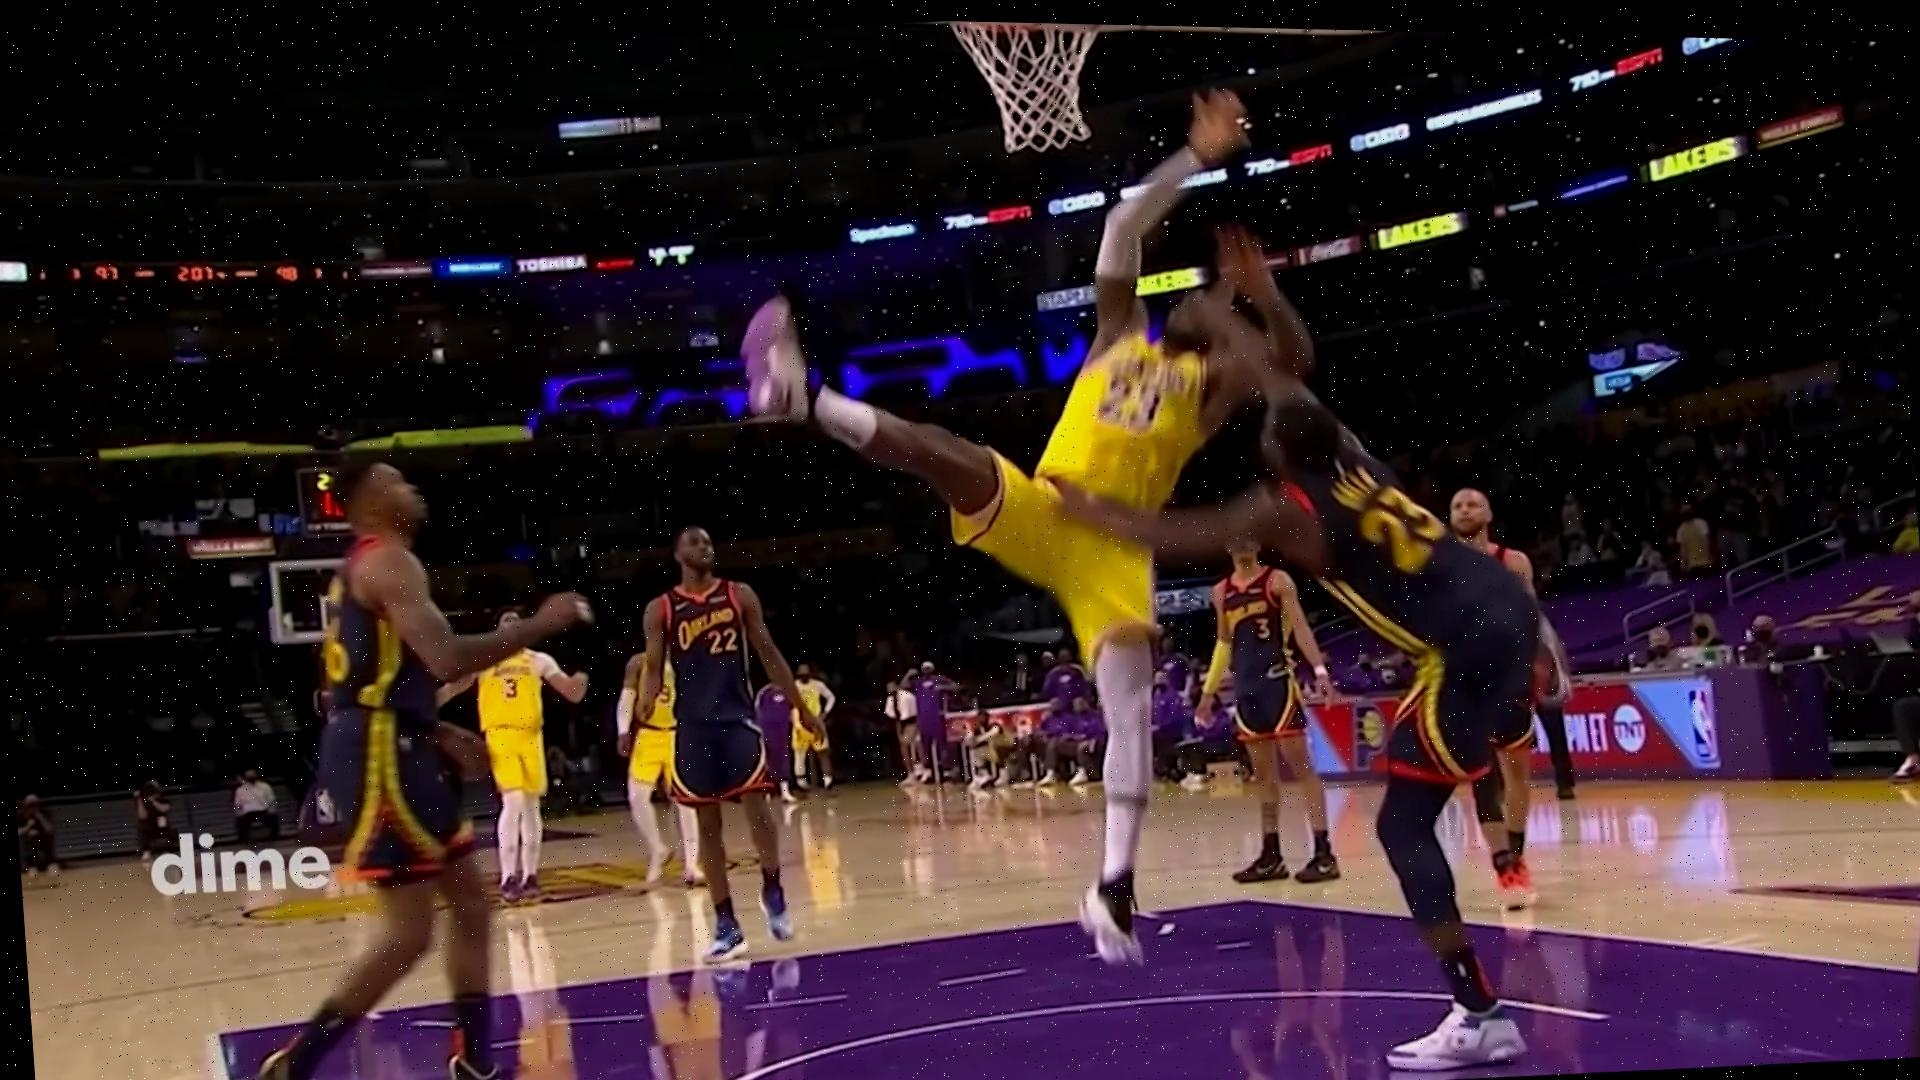foul: (847, 132, 1506, 1080)
